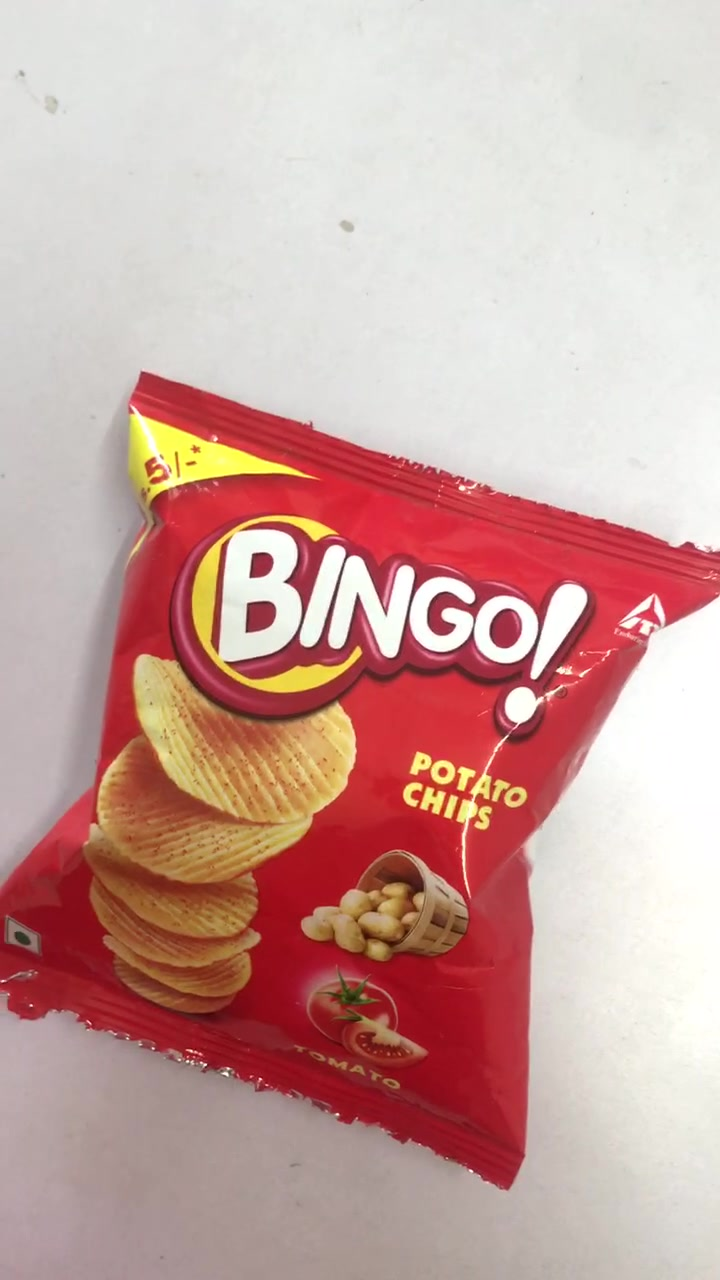Bingo: (3, 374, 720, 1196)
